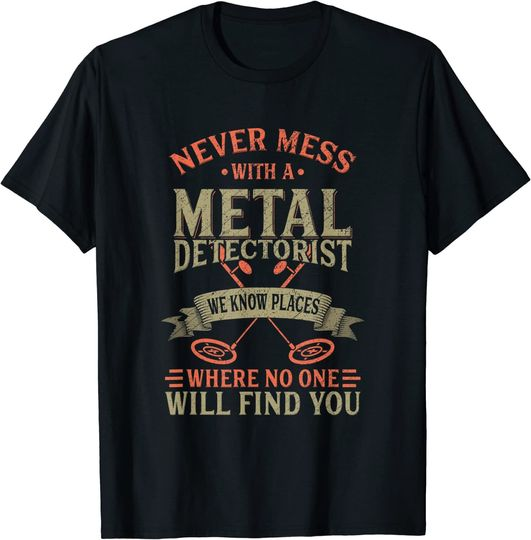design: (160, 124, 364, 417)
